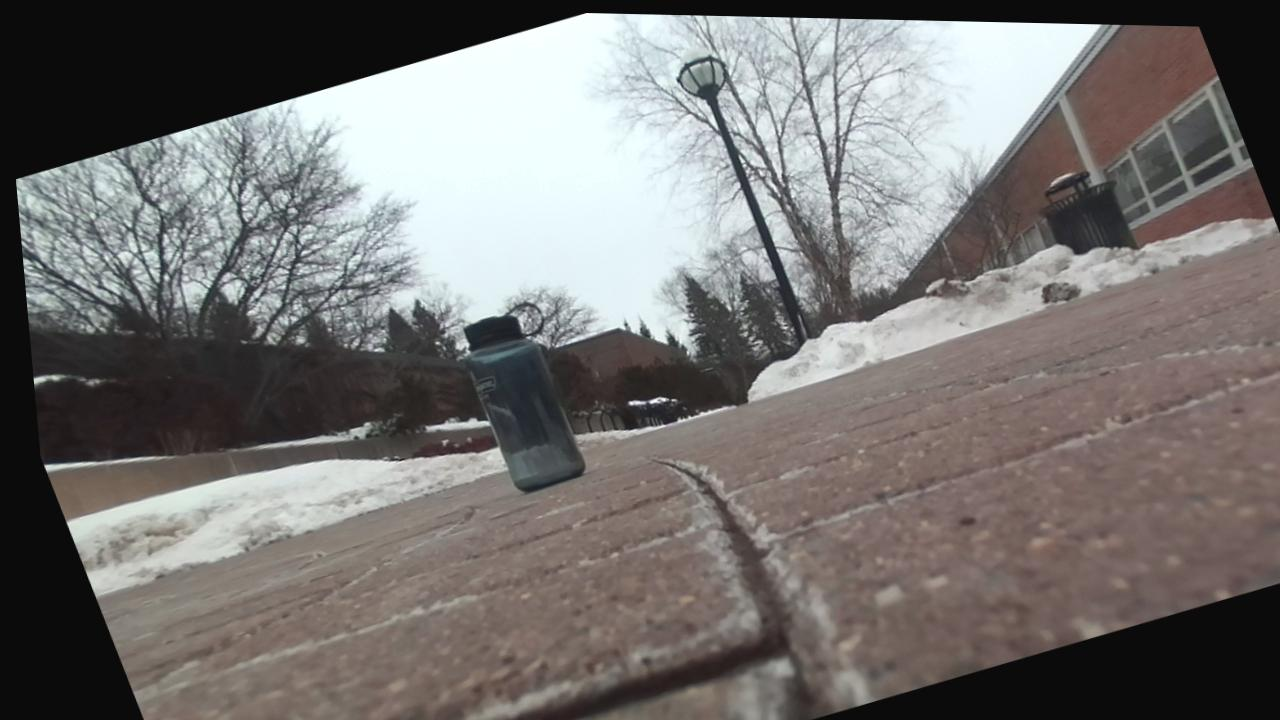bottle: (463, 307, 585, 490)
